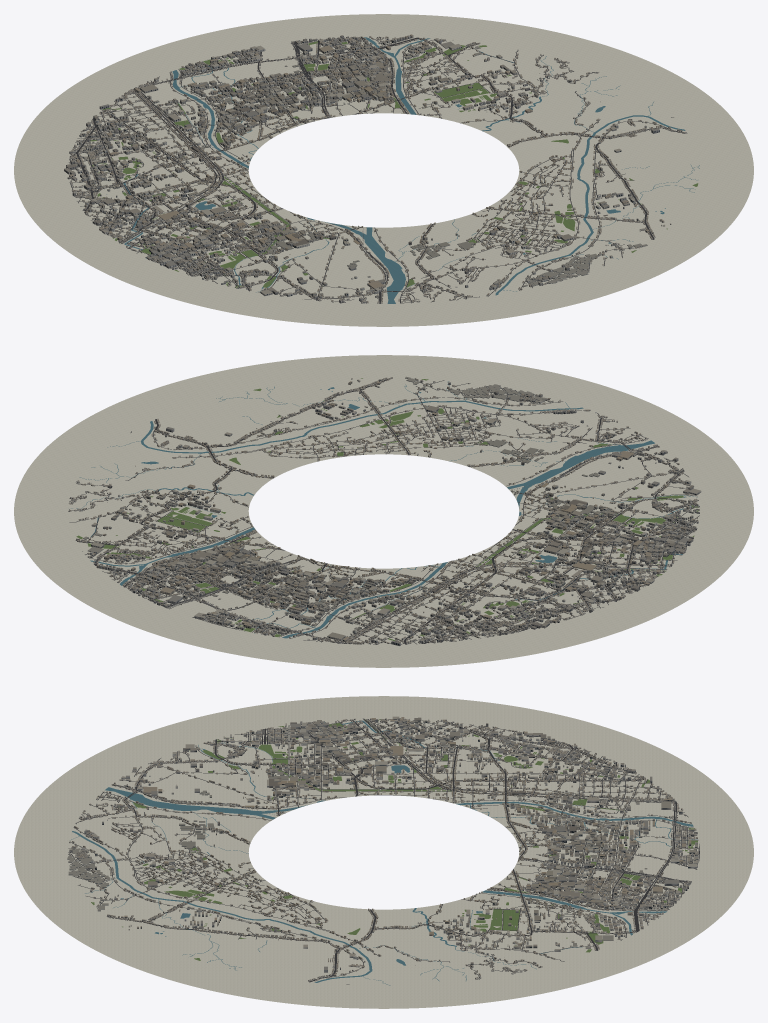
The model's file is map_outer.glb.
The picture shows the model from 3 angles, top to bottom: view 1: azimuth 30°, elevation 25°; view 2: azimuth 150°, elevation 25°; view 3: azimuth 270°, elevation 25°; orthographic projection.
Visible parts, largest first — view 1: 外圍_地面, 外圍_大樓, 外圍_透天, 外圍_道路, 外圍_河川, 外圍_綠地, 外圍_廠房; view 2: 外圍_地面, 外圍_大樓, 外圍_透天, 外圍_道路, 外圍_河川, 外圍_綠地, 外圍_廠房; view 3: 外圍_地面, 外圍_透天, 外圍_大樓, 外圍_道路, 外圍_河川, 外圍_綠地, 外圍_廠房.
Boxes of the visible parts, box(x1,y1,x2,y2) form: 外圍_地面: box(14, 14, 753, 326); 外圍_大樓: box(64, 34, 664, 303); 外圍_透天: box(69, 36, 685, 303); 外圍_道路: box(69, 37, 687, 303); 外圍_河川: box(106, 37, 699, 303); 外圍_綠地: box(90, 41, 698, 294); 外圍_廠房: box(74, 41, 647, 286); 外圍_地面: box(14, 355, 753, 667); 外圍_大樓: box(87, 379, 701, 645); 外圍_透天: box(68, 377, 699, 644); 外圍_道路: box(68, 378, 699, 644); 外圍_河川: box(71, 381, 698, 638); 外圍_綠地: box(76, 378, 698, 640); 外圍_廠房: box(83, 376, 685, 636); 外圍_地面: box(14, 696, 753, 1008); 外圍_透天: box(68, 718, 698, 981); 外圍_大樓: box(69, 716, 697, 976); 外圍_道路: box(68, 719, 699, 984); 外圍_河川: box(70, 720, 697, 985); 外圍_綠地: box(91, 719, 697, 960); 外圍_廠房: box(67, 736, 648, 948).
Bounding box in the file's own units: 8200 × 33.88 × 8200.
Materials: 9 (8 with a texture image).
